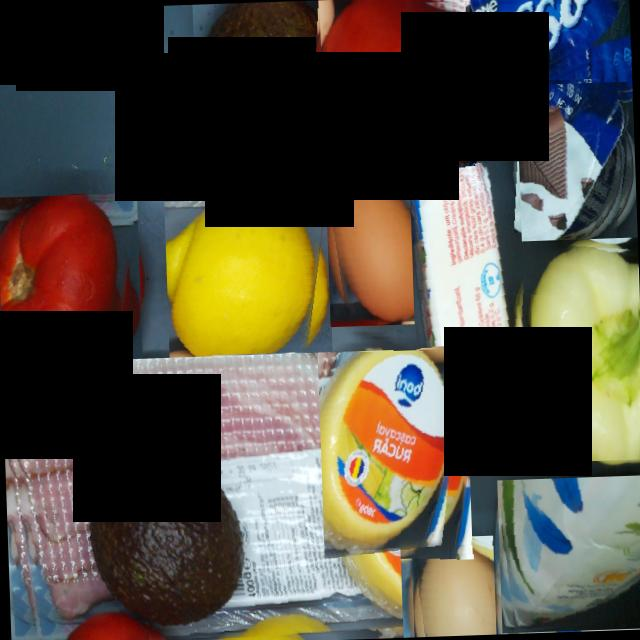avocado: (66, 372, 225, 546), (192, 0, 339, 106)
bacon: (1, 349, 403, 640)
butter: (410, 160, 540, 462)
cheese: (317, 348, 472, 561)
eggs: (325, 175, 414, 326), (223, 107, 336, 220), (412, 535, 496, 637)
lemon: (164, 195, 332, 372)
milk: (497, 475, 640, 633)
pepper: (528, 238, 640, 462)
tomatoes: (0, 192, 143, 392), (319, 0, 477, 175)
yogurt: (516, 81, 637, 241), (464, 0, 628, 83)
